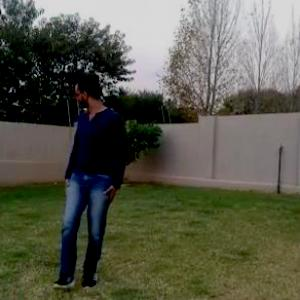follow: (65, 70, 117, 279)
